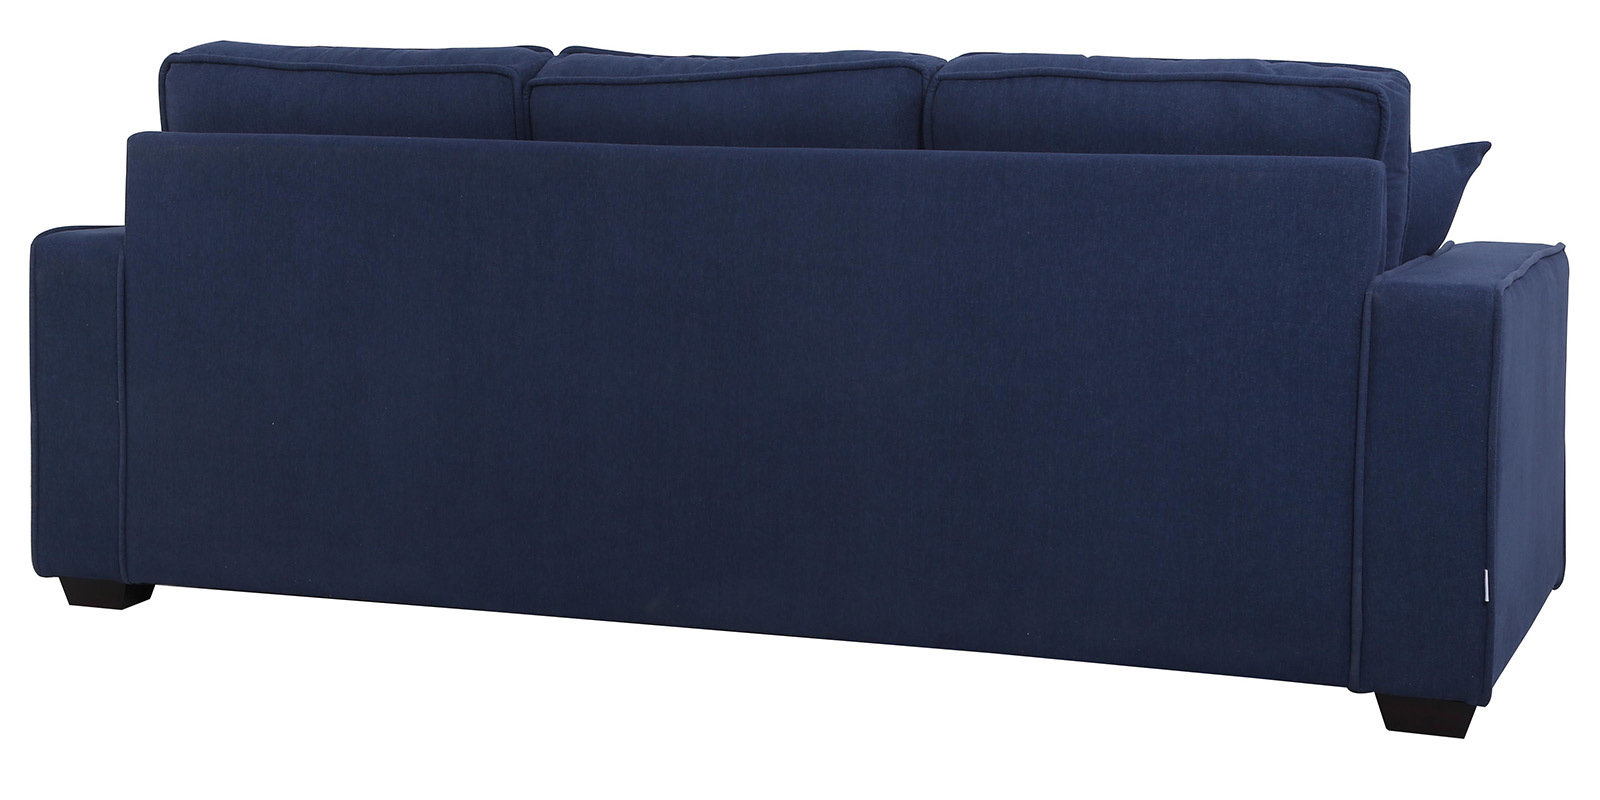Hugo Three Seater Sofa in Navy Blue Colour by CasaCraft: (19, 34, 1600, 762)
